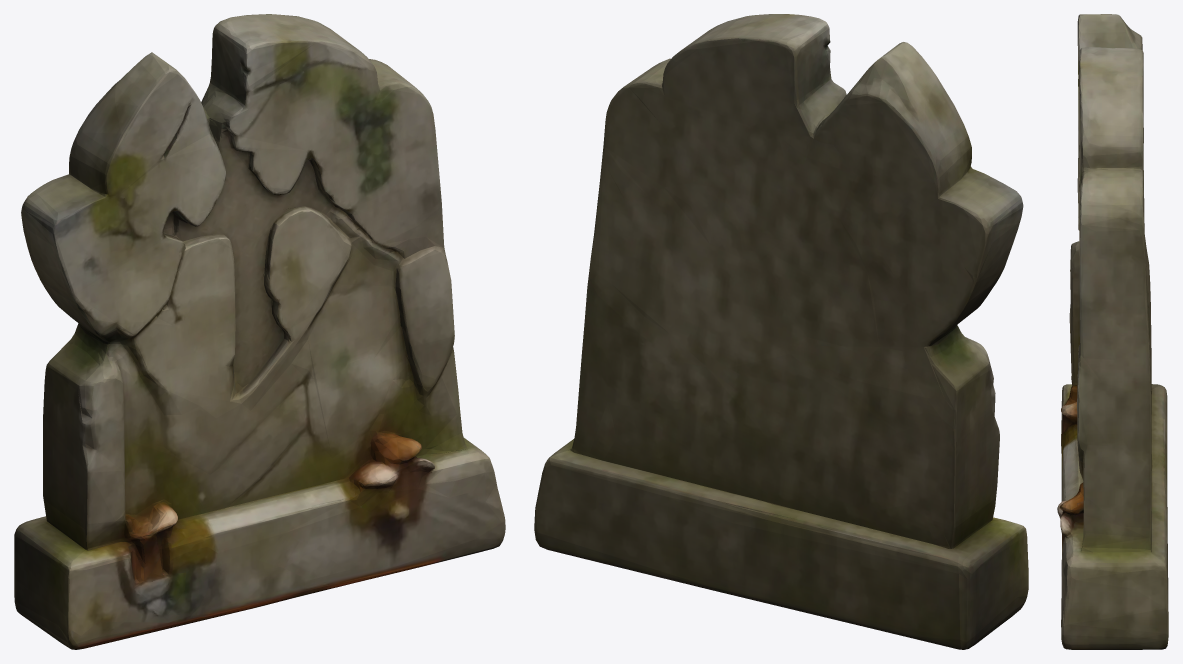
Rendered from tombstone_cracked.glb.
3 renders of one model, left to right at view 1: azimuth 30°, elevation 25°; view 2: azimuth 150°, elevation 25°; view 3: azimuth 270°, elevation 25°, orthographic. The views are drawn at different scales.
Parts seen in each view (by area): view 1: geometry_0; view 2: geometry_0; view 3: geometry_0.
Part boxes in pixels (x1,y1,x2,y2): geometry_0: (14,14,505,649); geometry_0: (534,14,1028,649); geometry_0: (1057,14,1168,649).
Bounding box in the file's own units: 0.8344 × 0.9992 × 0.2022.
1 material, 1 textured.
